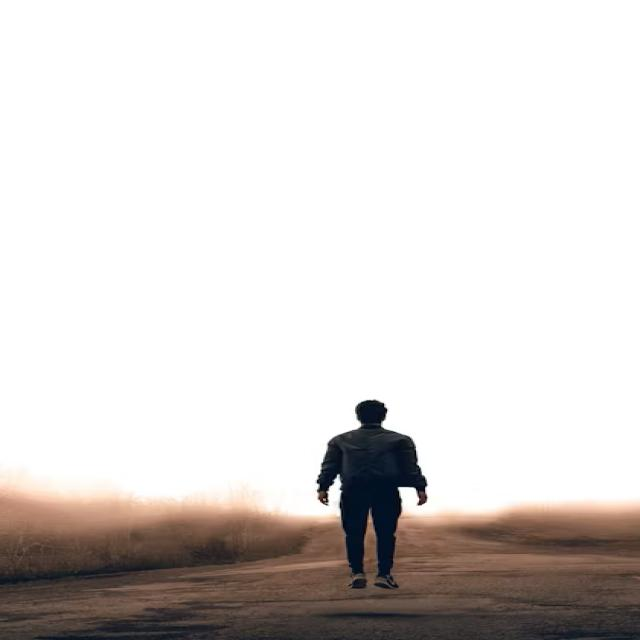Edited images: (285, 389, 472, 612)
